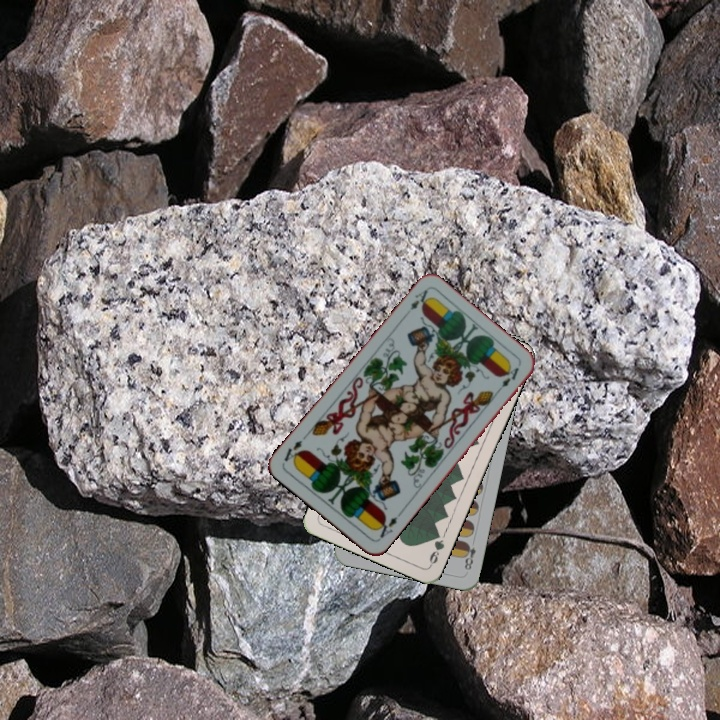E8: (459, 535, 479, 573)
EA: (401, 285, 433, 319), (372, 509, 404, 540)
G9: (425, 527, 447, 568)
